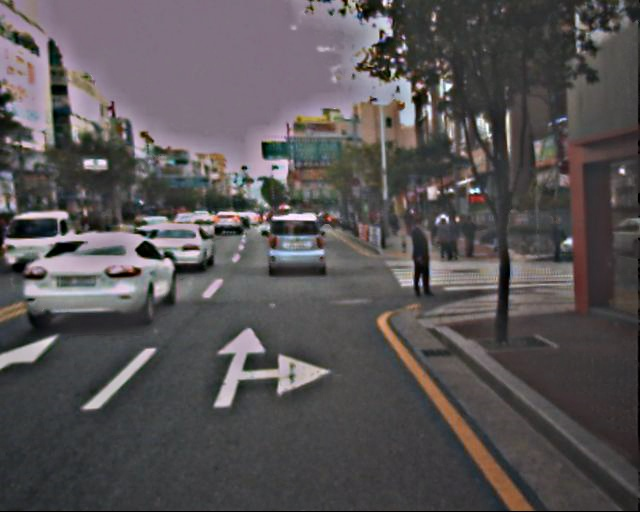person: (403, 219, 436, 300), (432, 213, 459, 258), (546, 214, 567, 266), (461, 214, 479, 258)
